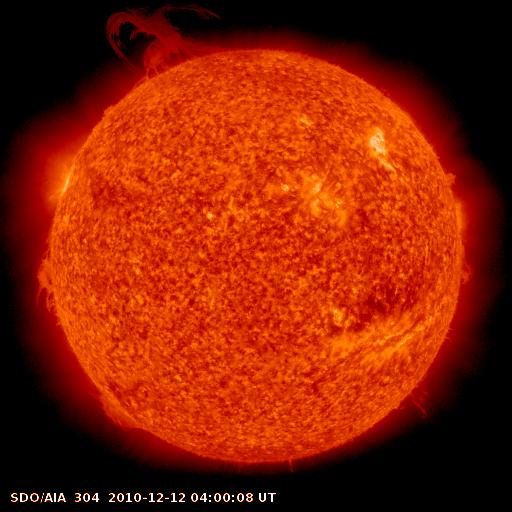prominence: (84, 1, 250, 84), (18, 241, 76, 325), (80, 375, 151, 442), (397, 379, 449, 426), (428, 151, 472, 200), (450, 247, 483, 292)
